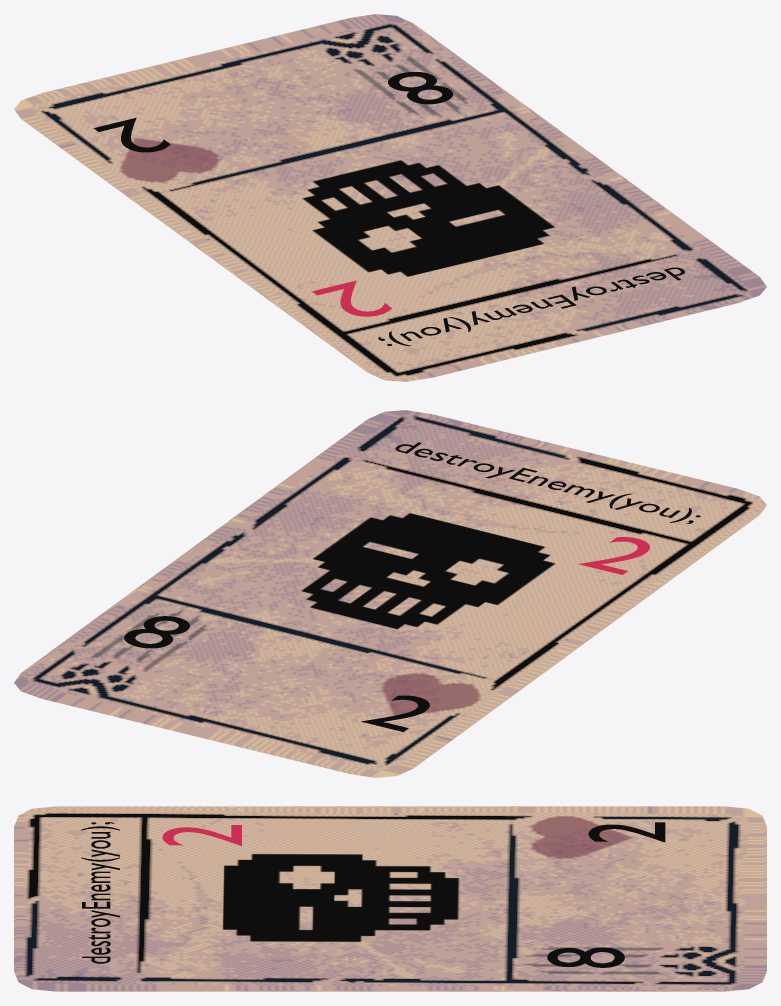
File: destroyEnemy(you).glb
3 views of the same model, one above another, from view 1: azimuth 30°, elevation 25°; view 2: azimuth 150°, elevation 25°; view 3: azimuth 270°, elevation 25° (orthographic). The views are drawn at different scales.
Visible parts, largest first — view 1: destroyEnemy(you); view 2: destroyEnemy(you); view 3: destroyEnemy(you).
Boxes of the visible parts, <box> form: destroyEnemy(you): <box>14,14,766,381</box>; destroyEnemy(you): <box>14,410,766,777</box>; destroyEnemy(you): <box>14,806,766,991</box>.
Size of what is drawn, in the model's own units: 44.93 by 0.4028 by 77.22.
5 materials, 2 textured.
